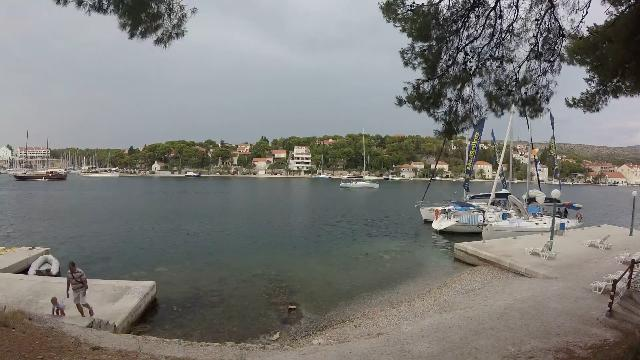Freighter: (6, 162, 74, 182)
Sailboat: (332, 176, 383, 190)
